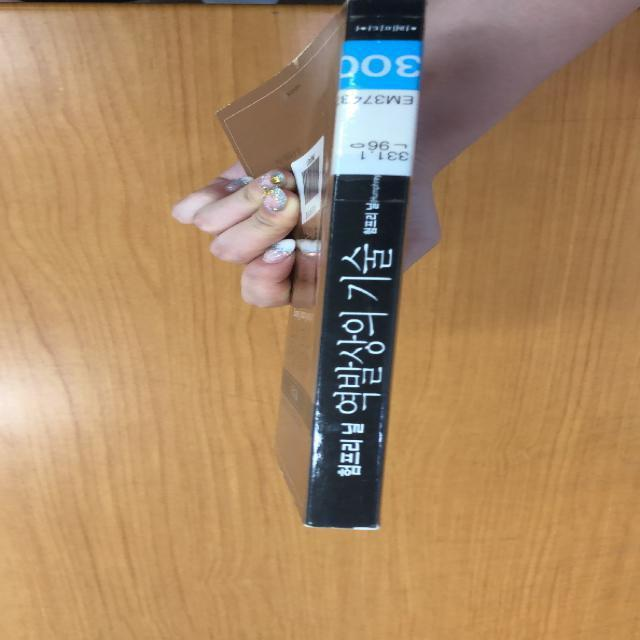Wornout: (297, 517, 385, 533), (281, 39, 316, 69), (210, 99, 237, 118)
